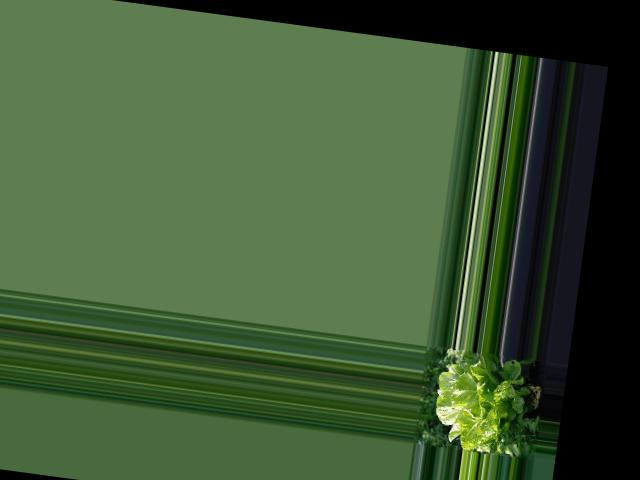lettuce: (432, 350, 527, 447)
